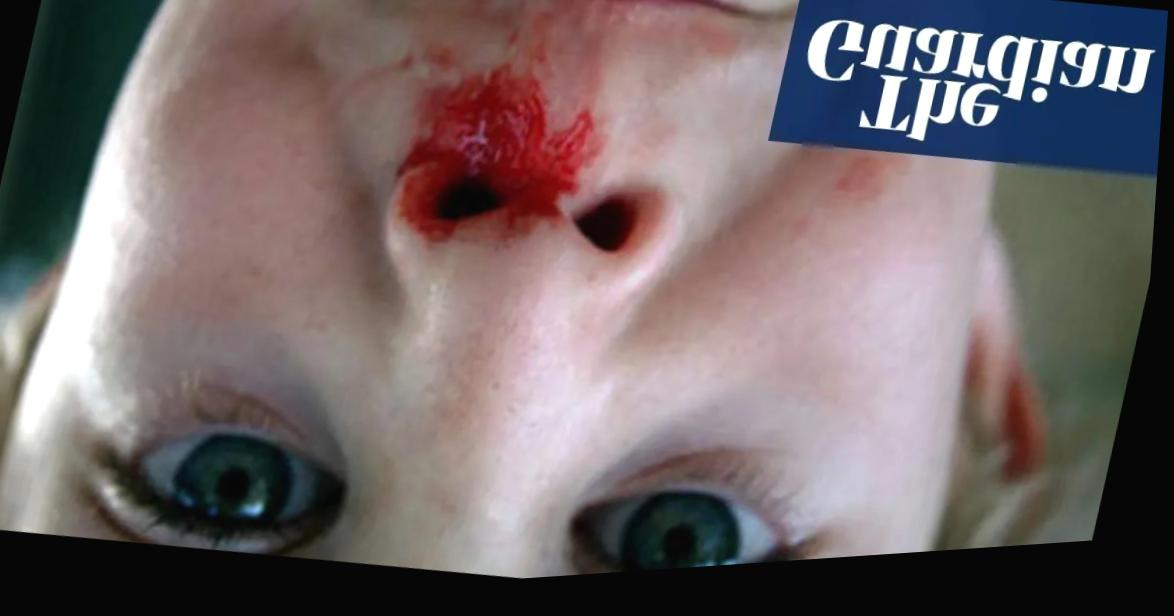Fire: (394, 77, 604, 251)
